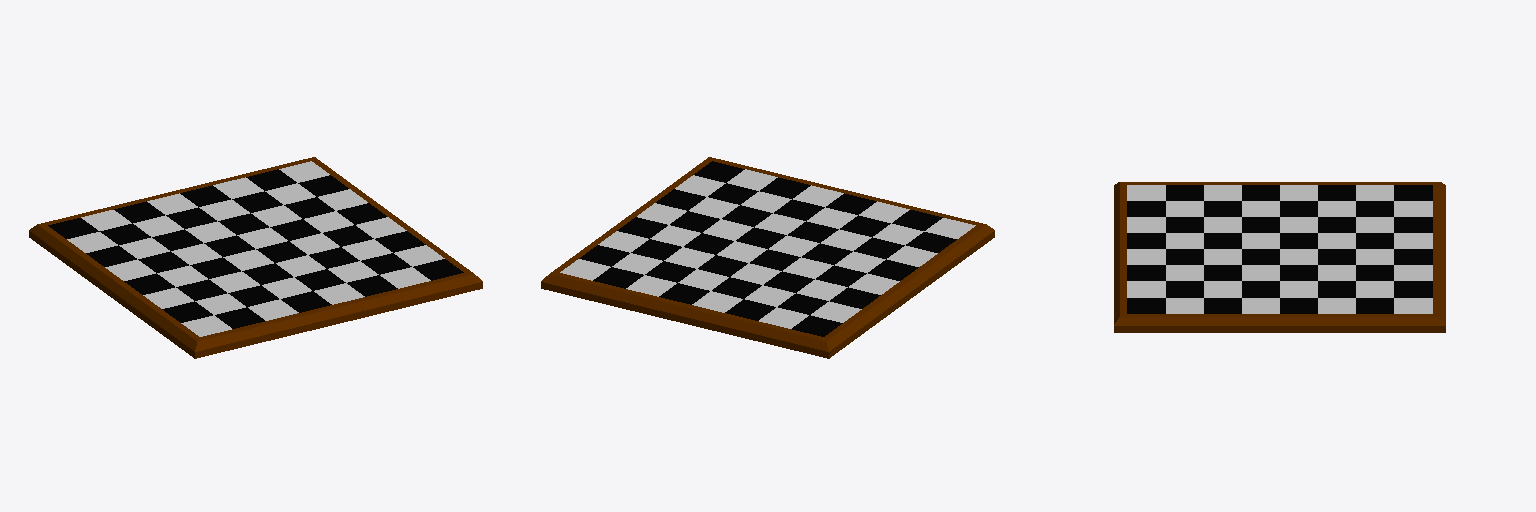
Rendered from board.obj.
The picture shows the model from 3 angles: view 1: azimuth 30°, elevation 25°; view 2: azimuth 150°, elevation 25°; view 3: azimuth 270°, elevation 25°; orthographic projection.
Visible parts, largest first — view 1: dark, white, wood; view 2: white, dark, wood; view 3: dark, white, wood.
Part boxes in pixels (x1,y1,x2,y2): dark: (48, 169, 463, 328); white: (67, 161, 444, 336); wood: (29, 157, 482, 358); white: (560, 169, 975, 328); dark: (579, 161, 956, 336); wood: (541, 157, 994, 358); dark: (1127, 185, 1432, 313); white: (1127, 185, 1432, 313); wood: (1114, 182, 1445, 332).
Size of the model in its own units: 0.442 by 0.02 by 0.442.